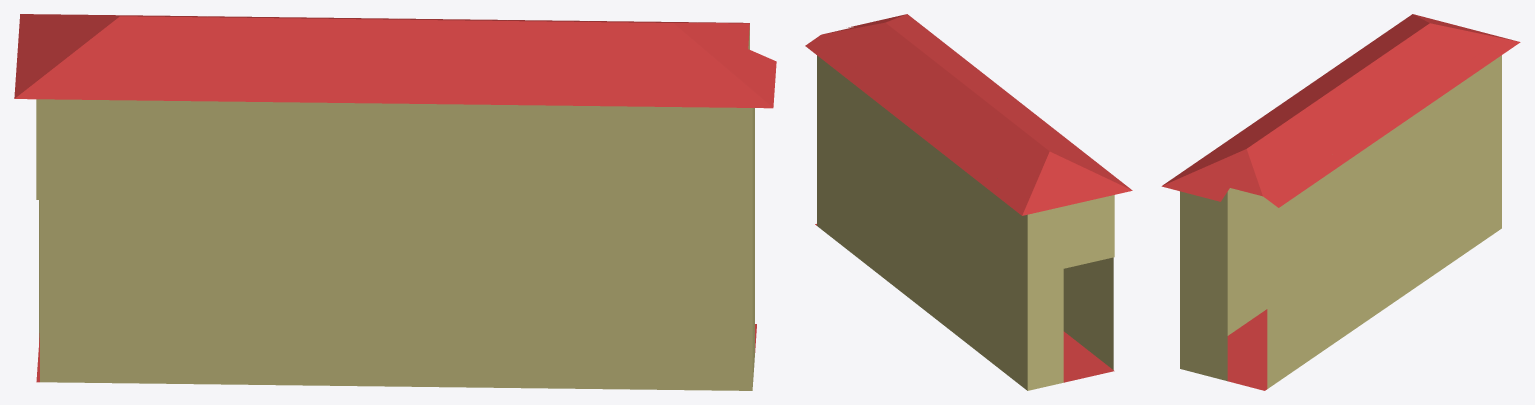
The picture shows the model from 3 angles, left to right: view 1: azimuth 30°, elevation 25°; view 2: azimuth 150°, elevation 25°; view 3: azimuth 270°, elevation 25°; orthographic projection. The views are drawn at different scales.
Parts seen in each view (by area): view 1: group_5, group_3; view 2: group_5, group_3, group_4, group_6; view 3: group_5, group_3, group_6, group_4.
Boxes of the visible parts, box(x1,y1,x2,y2) form: group_5: box(36, 25, 754, 390); group_3: box(14, 14, 776, 108); group_5: box(817, 27, 1114, 390); group_3: box(805, 14, 1132, 215); group_4: box(809, 16, 1026, 214); group_6: box(815, 224, 1114, 382); group_5: box(1180, 55, 1501, 388); group_3: box(1161, 14, 1520, 207); group_6: box(1227, 309, 1267, 390); group_4: box(1166, 39, 1517, 204).
Bounding box in the file's own units: 33.85 × 26.51 × 17.23.
